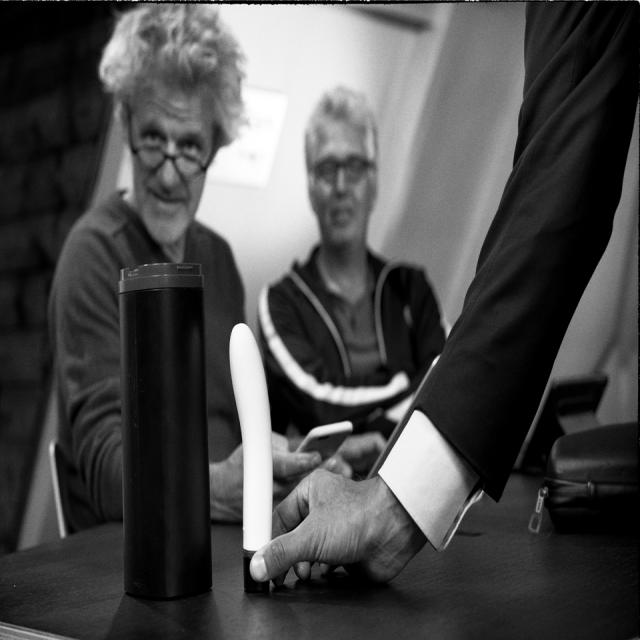Glasses: (124, 98, 223, 184), (306, 147, 377, 183)
